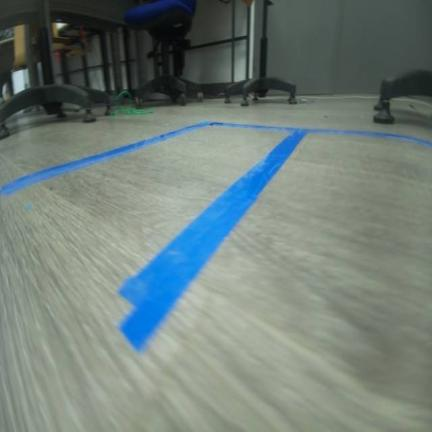place: (101, 123, 431, 431), (0, 119, 312, 352)
